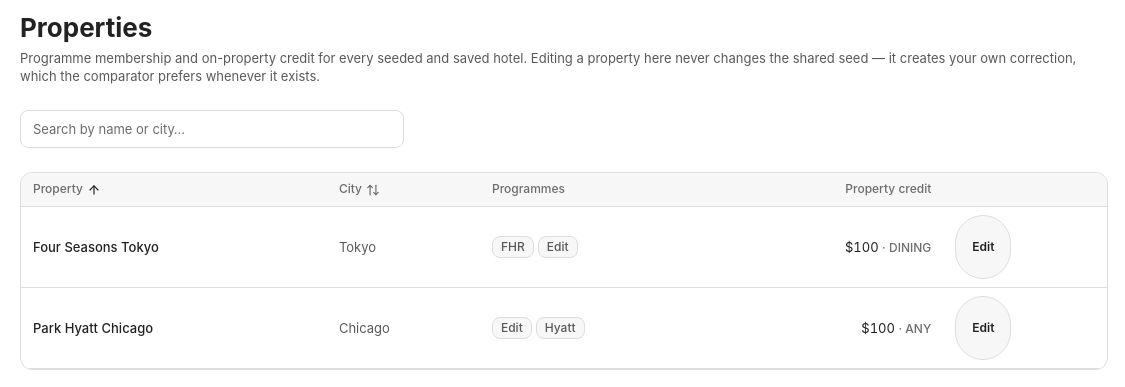
Test: <PropertiesScreen /> › shows a no-match empty state for a search with no results
Step 1. Type "nonexistent hotel" into the field named "Search properties" → (212, 129), box [33, 111, 391, 147]
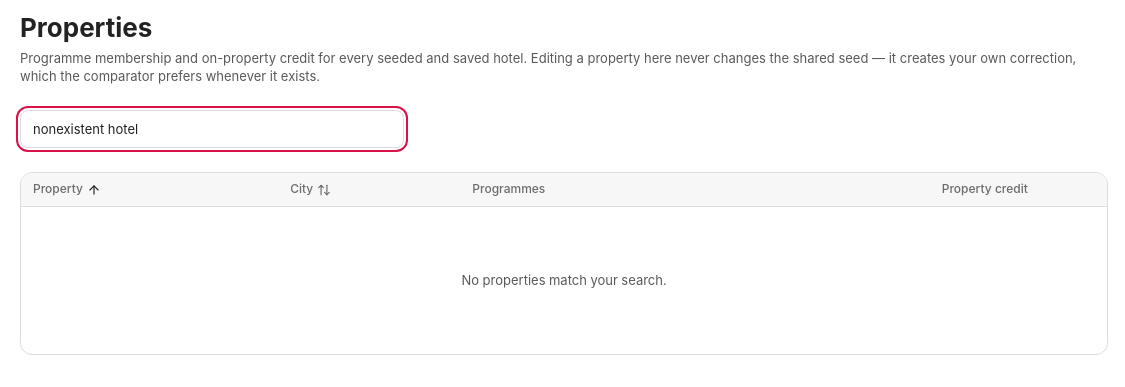
Expected: the text "No properties match your search." is shown, [462, 271, 666, 290]
